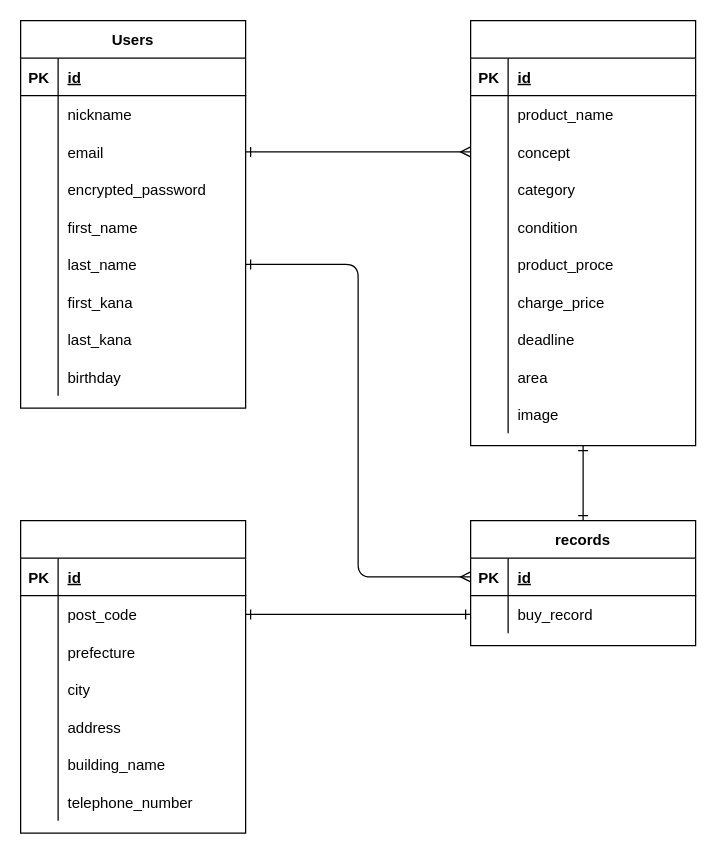
This 716x854 diagram has some shape labels left out. The shapes that lost their labels are listed below. From the top down, each one's box as (x1, y1, x2, y2) in pixels, then its label:
(469, 19, 696, 446): Items
(19, 519, 246, 833): buyers
